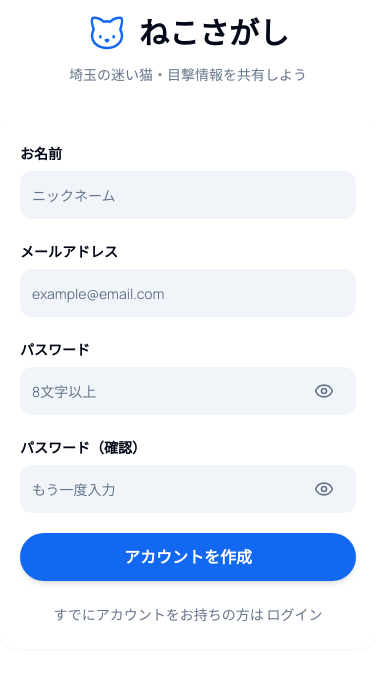
Test: Register › パスワードと確認用が一致しない時、フィールド下にエラーが表示されること
The image size is (377, 683).
Step 1. Type "test@example.com" into the field labelled "メールアドレス" → (188, 293), box [20,269,356,317]
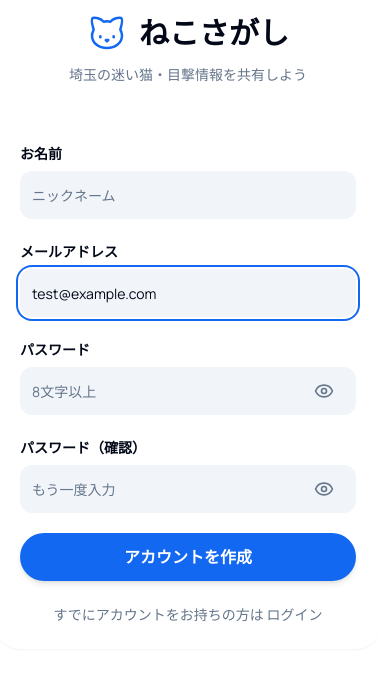
Step 2. Type "password123" into the password field labelled "パスワード" → (188, 391), box [20,367,356,415]
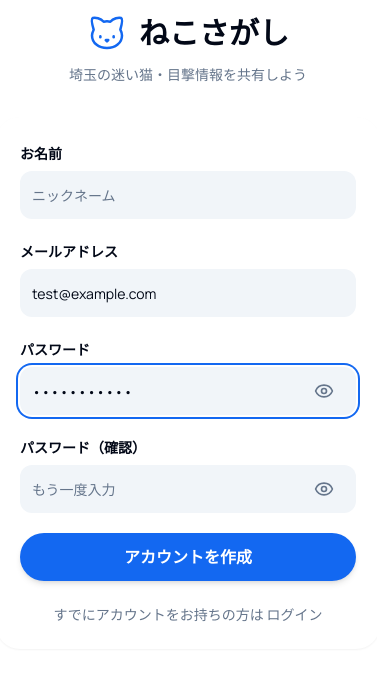
Step 3. Type "different456" into the password field labelled "パスワード（確認）" → (188, 489), box [20,465,356,513]
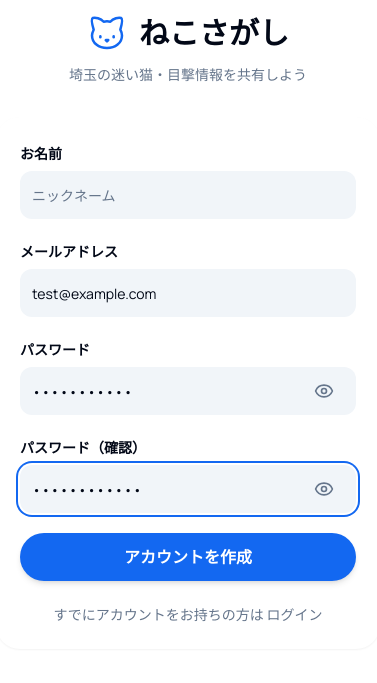
Step 4. Click the button "アカウントを作成" → (188, 557), box [20,533,356,581]
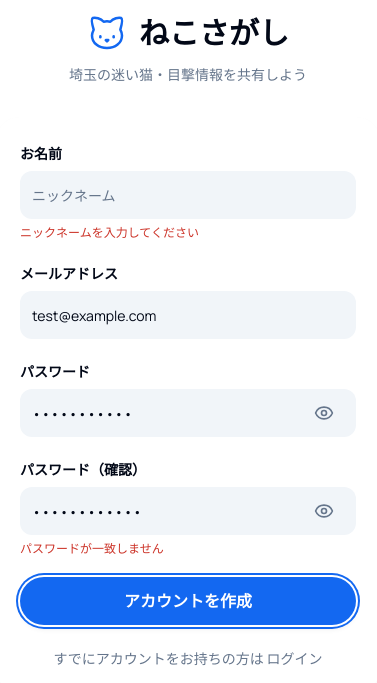
Expected: the text "パスワードが一致しません" is shown, [20,540,164,557]
